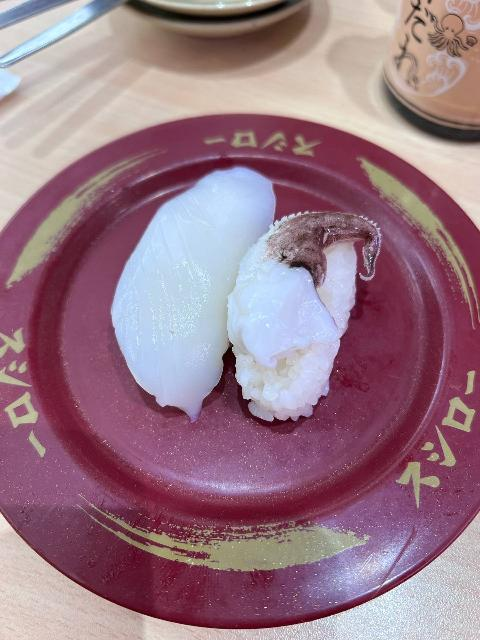janred: (0, 80, 480, 548)
